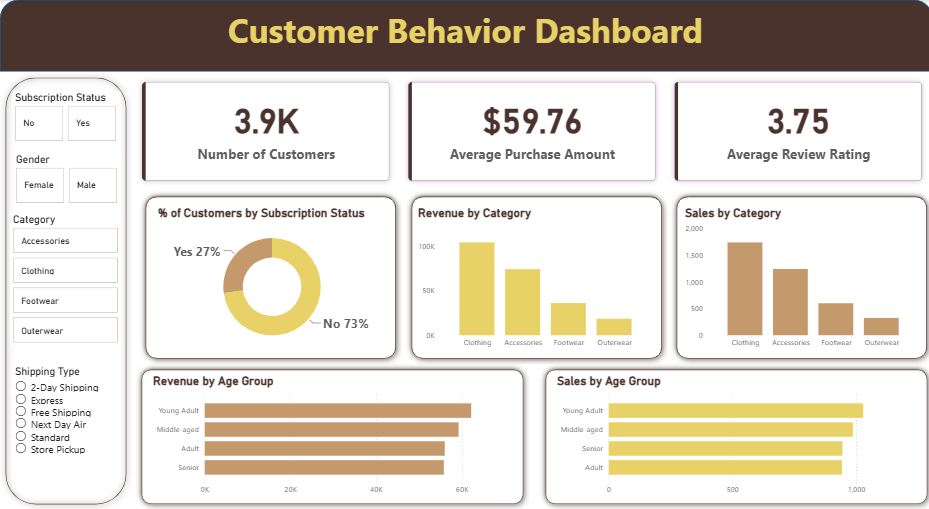

The page's visual inventory and layout, read from the dashboard file:
{"tool":"powerbi","page":{"name":"Page 1","canvas":[1500,820],"ordinal":0},"visuals":[{"type":"cardVisual","fields":{"Data":["public customer.Number of Customers","public customer.Average Purchase Amount","public customer.Average Review Rating"]},"box":[212.9,115.3,1286.5,191.6],"z":2000},{"type":"shape","box":[218.3,585.6,631.7,234.2],"z":2500,"group":"g1"},{"type":"shape","box":[0,0,1499.4,115.3],"z":3000},{"type":"textbox","box":[33.8,6.4,1429.4,102.9],"z":4000},{"type":"shape","box":[225.4,307,420.5,278.6],"z":5000},{"type":"donutChart","title":"% of Customers by Subscription Status","fields":{"Category":["public customer.subscription_status"],"Y":["CountNonNull(public customer.customer_id)"]},"box":[248.4,331.8,376.2,237.8],"z":6000},{"type":"shape","box":[1078.9,307,420.5,278.6],"z":7000},{"type":"shape","box":[652.1,307,420.5,278.6],"z":8000},{"type":"clusteredColumnChart","title":"Revenue by Category","fields":{"Y":["Sum(public customer.purchase_amount)"],"Category":["public customer.category"]},"box":[667.2,331.8,385.1,237.8],"z":9000},{"type":"clusteredColumnChart","title":"Sales by Category","fields":{"Y":["CountNonNull(public customer.customer_id)"],"Category":["public customer.category"]},"box":[1096.6,331.8,385.1,237.8],"z":10000},{"type":"shape","box":[0,115.8,212.2,704.2],"z":11000},{"type":"advancedSlicerVisual","fields":{"Values":["public customer.subscription_status"]},"box":[19.3,146.3,173.9,85.2],"z":12000},{"type":"advancedSlicerVisual","fields":{"Values":["public customer.gender"]},"box":[20.9,246,173.9,85.2],"z":13000},{"type":"advancedSlicerVisual","fields":{"Values":["public customer.category"]},"box":[16.1,342.5,178.5,213.8],"z":14000},{"type":"listSlicer","fields":{"Values":["public customer.shipping_type"]},"box":[20.1,587,167.2,195.7],"z":15000},{"type":"shape","box":[867.7,585.6,631.7,234.2],"z":16000},{"type":"clusteredBarChart","title":"Sales by Age Group","fields":{"Y":["CountNonNull(public customer.customer_id)"],"Category":["public customer.age_group"]},"box":[890.8,601.5,585.6,204.1],"z":17000},{"type":"clusteredBarChart","title":"Revenue by Age Group","fields":{"Y":["Sum(public customer.purchase_amount)"],"Category":["public customer.age_group"]},"box":[241.4,601.6,585.6,204.1],"z":17500,"group":"g1"},{"type":"group","id":"g1","title":"Group 1","box":[218.3,585.6,631.7,234.2],"z":17501}]}

Visuals, with their boxes in screenshot pixels (x1, y1, x2, y2), scaled from the page's 1500x820 canvas onto the 929x509 screenshot:
cardVisual - public customer.Number of Customers x public customer.Average Purchase Amount: <bbox>132, 72, 928, 191</bbox>
shape: <bbox>135, 364, 526, 508</bbox>
shape: <bbox>0, 0, 928, 72</bbox>
textbox: <bbox>21, 4, 906, 68</bbox>
shape: <bbox>140, 191, 400, 364</bbox>
"% of Customers by Subscription Status" donutChart: <bbox>154, 206, 387, 354</bbox>
shape: <bbox>668, 191, 928, 364</bbox>
shape: <bbox>404, 191, 664, 364</bbox>
"Revenue by Category" clusteredColumnChart: <bbox>413, 206, 652, 354</bbox>
"Sales by Category" clusteredColumnChart: <bbox>679, 206, 918, 354</bbox>
shape: <bbox>0, 72, 131, 508</bbox>
advancedSlicerVisual - public customer.subscription_status: <bbox>12, 91, 120, 144</bbox>
advancedSlicerVisual - public customer.gender: <bbox>13, 153, 121, 206</bbox>
advancedSlicerVisual - public customer.category: <bbox>10, 213, 121, 345</bbox>
listSlicer - public customer.shipping_type: <bbox>12, 364, 116, 486</bbox>
shape: <bbox>537, 364, 928, 508</bbox>
"Sales by Age Group" clusteredBarChart: <bbox>552, 373, 914, 500</bbox>
"Revenue by Age Group" clusteredBarChart: <bbox>150, 373, 512, 500</bbox>
"Group 1" group: <bbox>135, 364, 526, 508</bbox>
